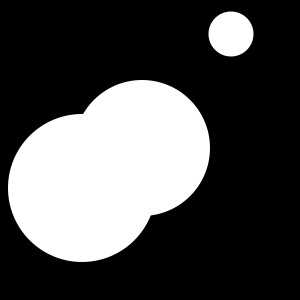rectangle: (8, 114, 156, 262), (74, 80, 210, 216), (209, 12, 254, 56)
